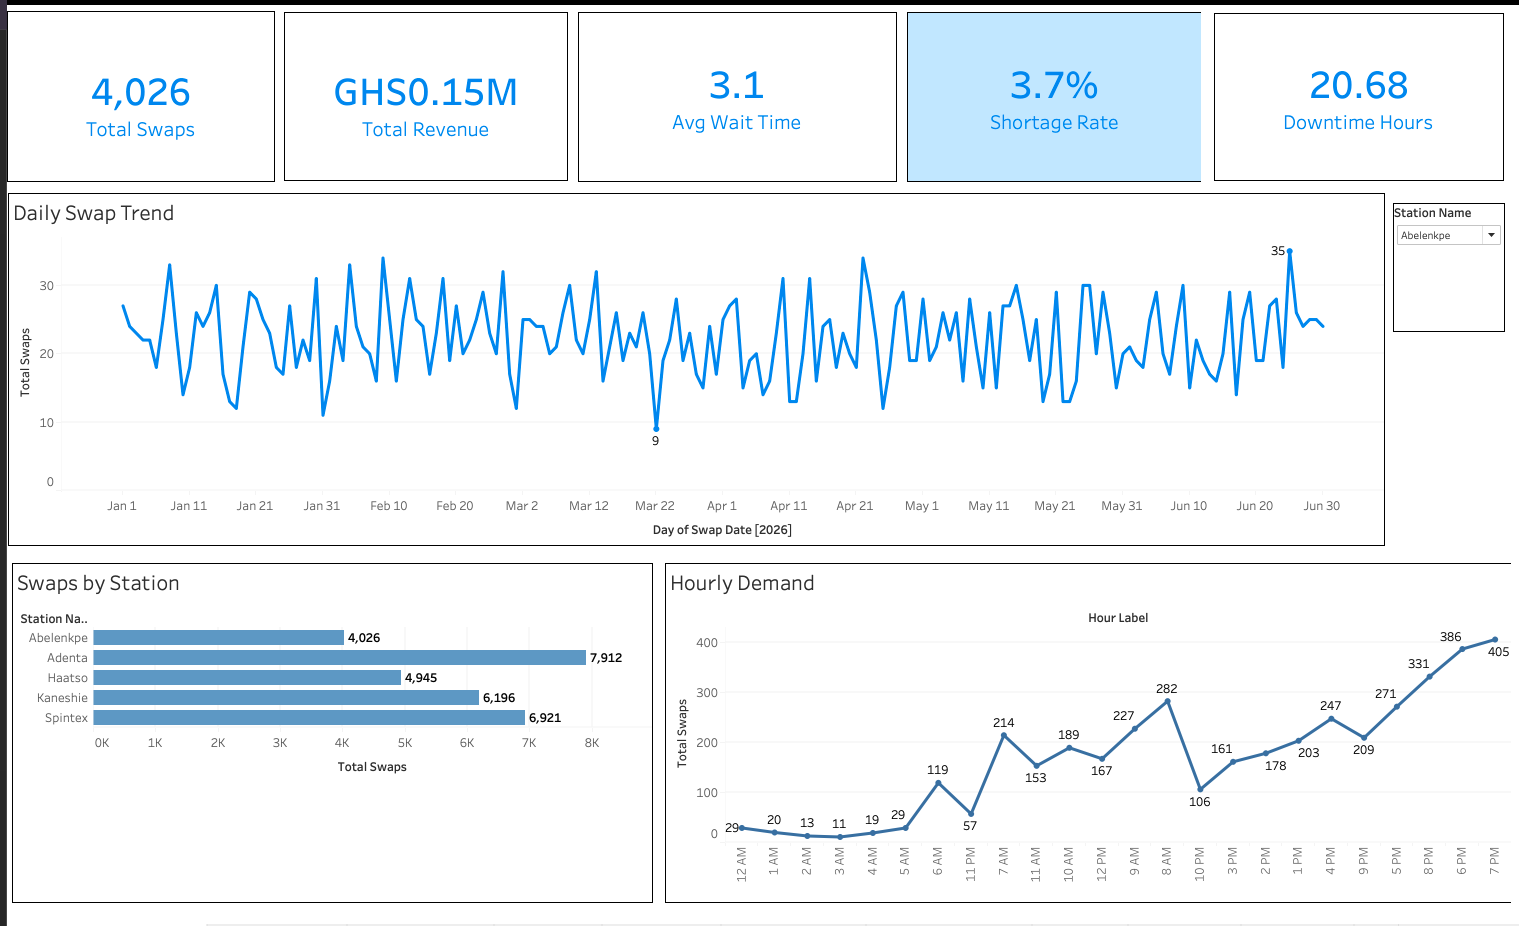

This screenshot's page, from the dashboard's own definition file:
{"tool":"tableau","page":{"name":"EV Swap Network Performance Intelligence","canvas":[1000,1000],"units":"permille","ordinal":0},"visuals":[{"type":"worksheet","title":"KPI-Total Swaps","mark":"Text","box":[0,6.2,177.5,186.2]},{"type":"worksheet","title":"KPI-Total Revenue","mark":"Text","box":[183.3,7.5,187.5,183.8]},{"type":"worksheet","title":"KPI-Average Wait Time","mark":"Text","box":[377.5,7.5,210.8,185]},{"type":"worksheet","title":"KPI-Battery Shortage Rate","mark":"Text","box":[595,7.5,195,185]},{"type":"worksheet","title":"KPI-Downtime","mark":"Text","box":[798.3,8.8,191.7,182.5]},{"type":"worksheet","title":"Daily Swap Trend","mark":"Automatic","rows":["Calculation_3158453521510405"],"cols":["Calculation_3158453517131776"],"box":[0.8,205,910.8,383.8]},{"type":"filter","title":"Daily Swap Trend","param":"[federated.1dofqpe05q9hcf11nmjnx0py8qc8].[none:station_name:nk]","box":[916.7,215.4,73.9,140.7]},{"type":"worksheet","title":"Swaps by Station","mark":"Automatic","rows":["station_name"],"cols":["Calculation_3158453521510405"],"box":[3.3,607.5,424.2,370]},{"type":"worksheet","title":"Hourly Demand","mark":"Line","rows":["Calculation_3158453521510405"],"cols":["Calculation_3158454244143118"],"box":[435,607.5,560,370]}]}

Visuals, with their boxes on the dashboard's canvas, which has no fixed pixel size, in thousandths of its width and height (x1, y1, x2, y2). These are canvas units, not pixel positions in the 1519x926 screenshot, which may show the page scaled, cropped or inside an application window:
"KPI-Total Swaps" worksheet (Text marks): 0:6:178:192
"KPI-Total Revenue" worksheet (Text marks): 183:8:371:191
"KPI-Average Wait Time" worksheet (Text marks): 378:8:588:192
"KPI-Battery Shortage Rate" worksheet (Text marks): 595:8:790:192
"KPI-Downtime" worksheet (Text marks): 798:9:990:191
"Daily Swap Trend" worksheet: 1:205:912:589
"Daily Swap Trend" filter: 917:215:991:356
"Swaps by Station" worksheet: 3:608:428:978
"Hourly Demand" worksheet (Line marks): 435:608:995:978
